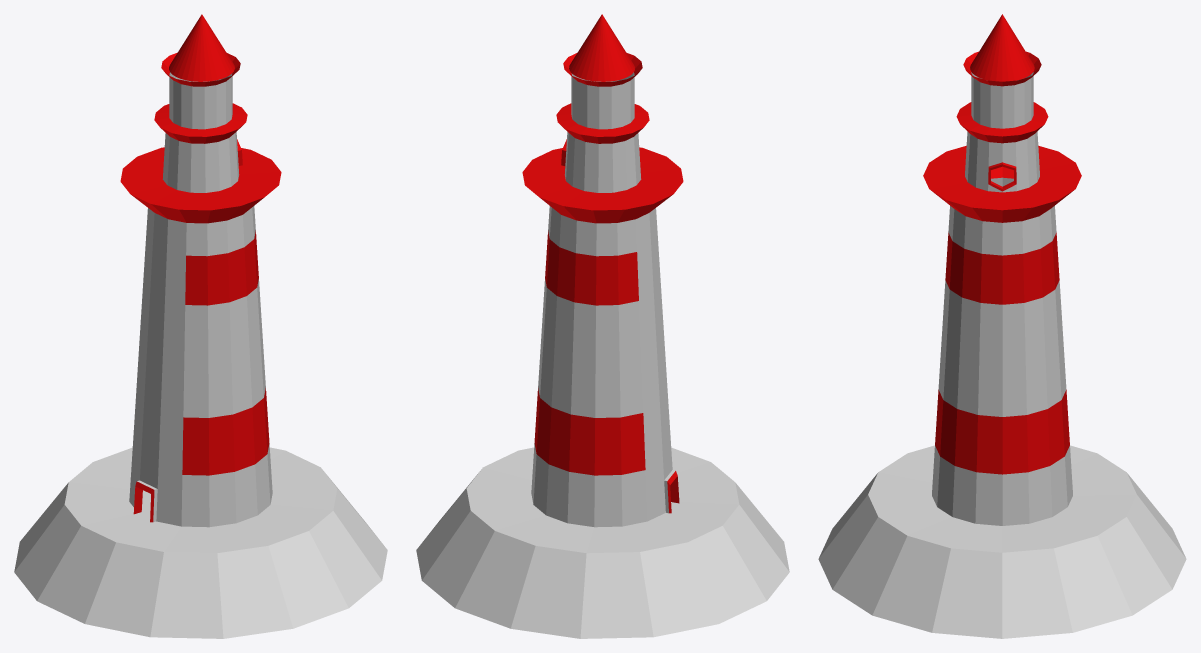
Rendered from lighthouse.fbx_1_base.fbx.
The picture shows the model from 3 angles, left to right: view 1: azimuth 30°, elevation 25°; view 2: azimuth 150°, elevation 25°; view 3: azimuth 270°, elevation 25°; orthographic projection.
Parts seen in each view (by area): view 1: 1_lighthouse; view 2: 1_lighthouse; view 3: 1_lighthouse.
Boxes of the visible parts, x1,y1,x2,y2 form: 1_lighthouse: (14, 14, 387, 638); 1_lighthouse: (416, 14, 789, 638); 1_lighthouse: (818, 14, 1186, 638).
Size of the model in its own units: 534 by 852 by 521.
